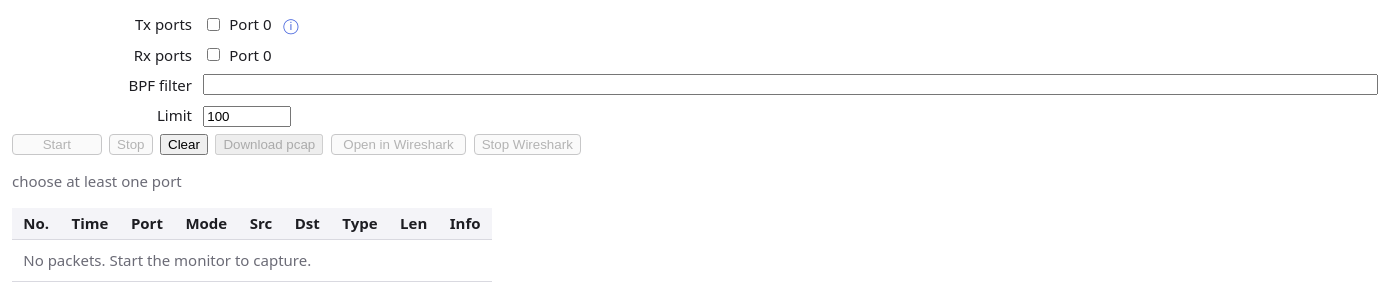
Test: CaptureMonitor › a Tx-only capture is not gated, and carries the help line
Click the checkbox labelled "Port 0" next to "Tx ports" at (214, 24), box [207,18,220,30]
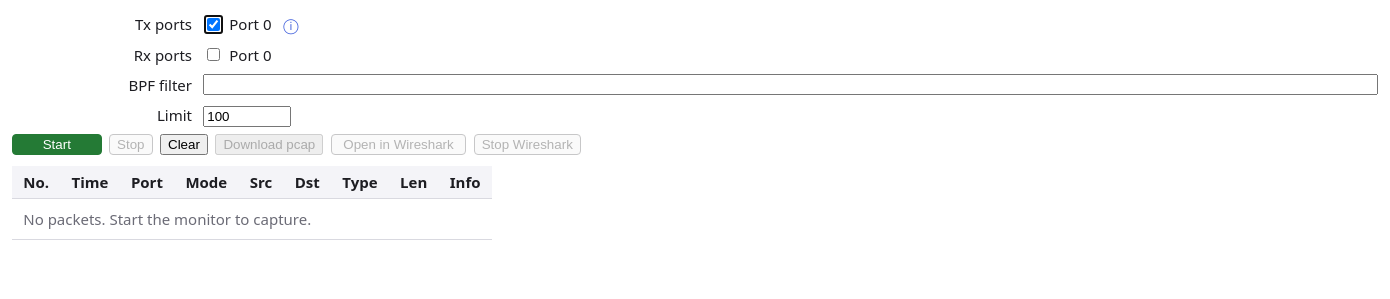
Result: the button "Start" is enabled at [12,134,102,155]
